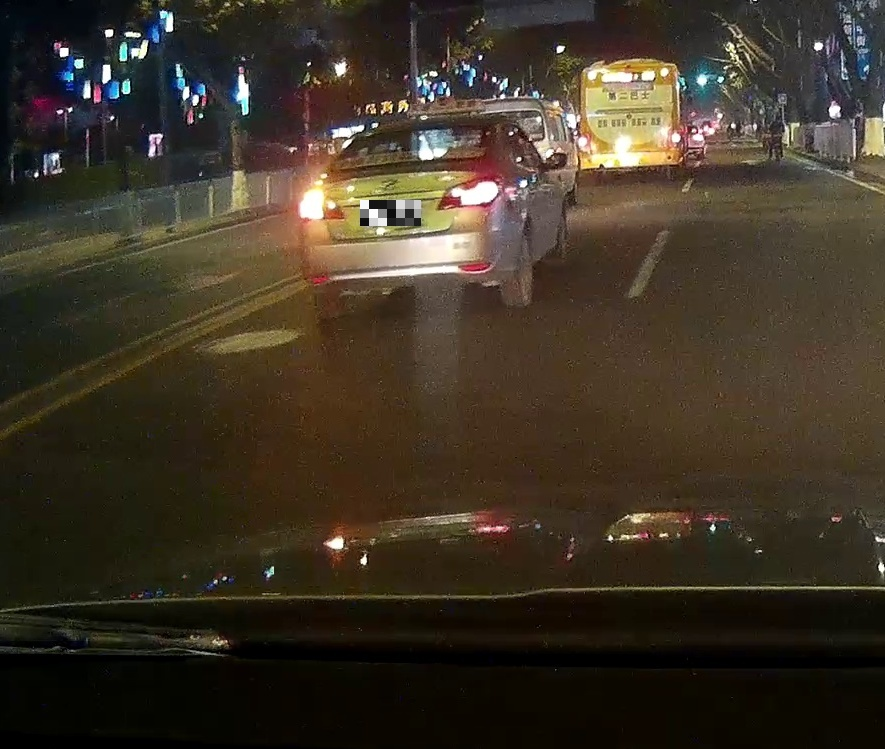L_light: (298, 192, 345, 220), (577, 135, 588, 148)
R_light: (434, 176, 497, 210), (670, 131, 682, 144)
T_light: (390, 129, 415, 135), (622, 71, 639, 75)
night-left: (298, 110, 501, 321)
night-no: (576, 62, 683, 182)
plate_1: (360, 200, 421, 226)
